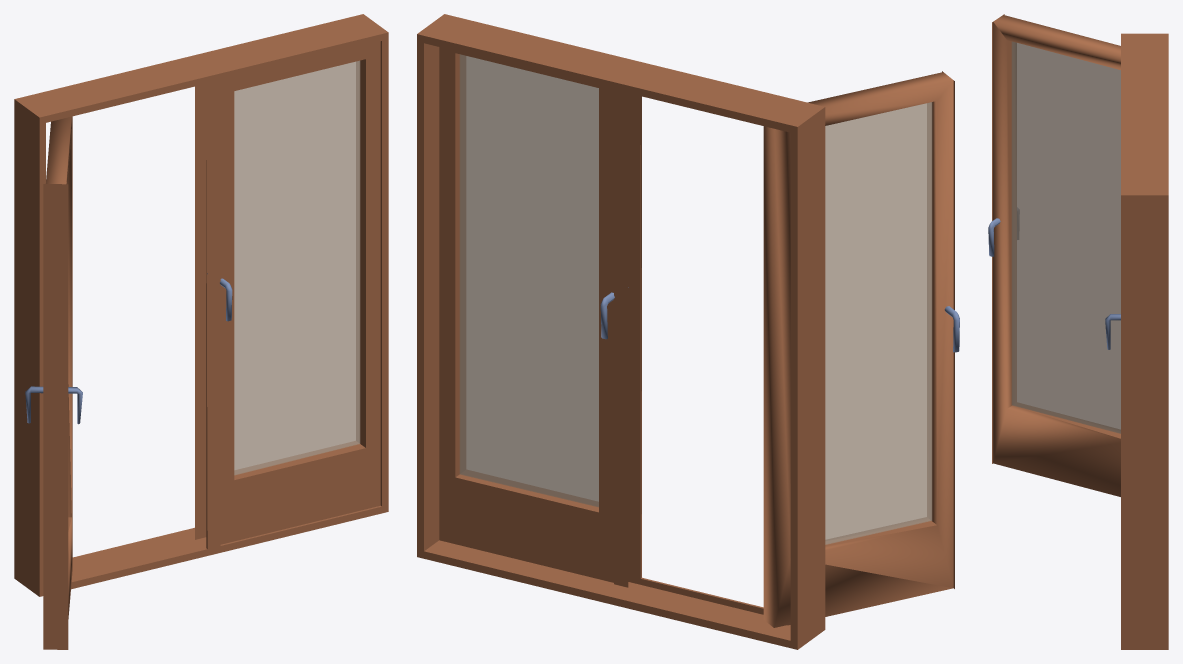
Rendered from window_opened_v4.fbx.
The picture shows the model from 3 angles, left to right: view 1: azimuth 30°, elevation 25°; view 2: azimuth 150°, elevation 25°; view 3: azimuth 270°, elevation 25°; orthographic projection. The views are drawn at different scales.
Visible parts, largest first — view 1: window, glass; view 2: window, glass; view 3: window, glass.
Part boxes in pixels (x1=…): window: x1=14, y1=14, x2=388, y2=649; glass: x1=234, y1=60, x2=360, y2=475; window: x1=417, y1=14, x2=959, y2=649; glass: x1=459, y1=54, x2=932, y2=544; window: x1=988, y1=14, x2=1168, y2=649; glass: x1=1011, y1=41, x2=1120, y2=433.
Bounding box in the file's own units: 186 × 204 × 73.34.
